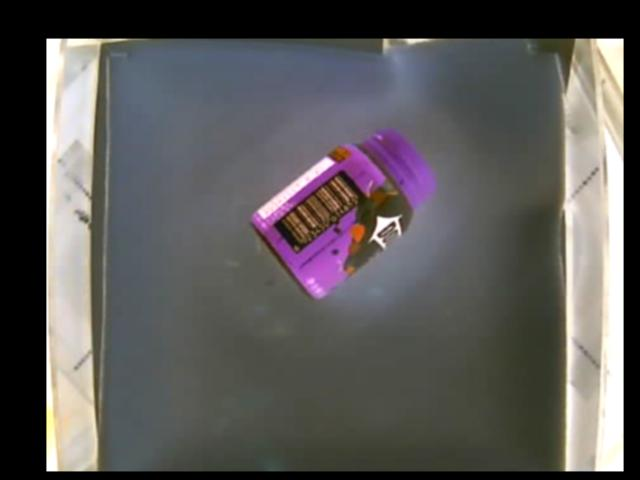Bottle: (250, 126, 436, 302)
